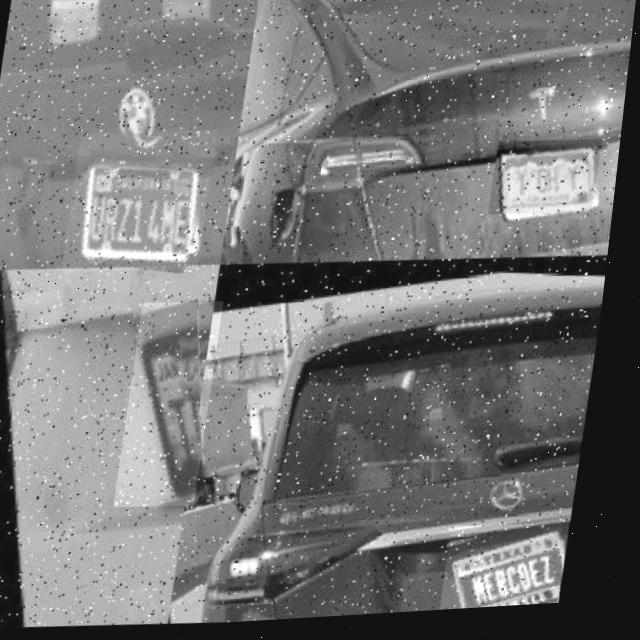LicensePlate: (66, 127, 221, 278), (125, 301, 231, 512), (461, 532, 577, 615), (502, 147, 598, 221)
